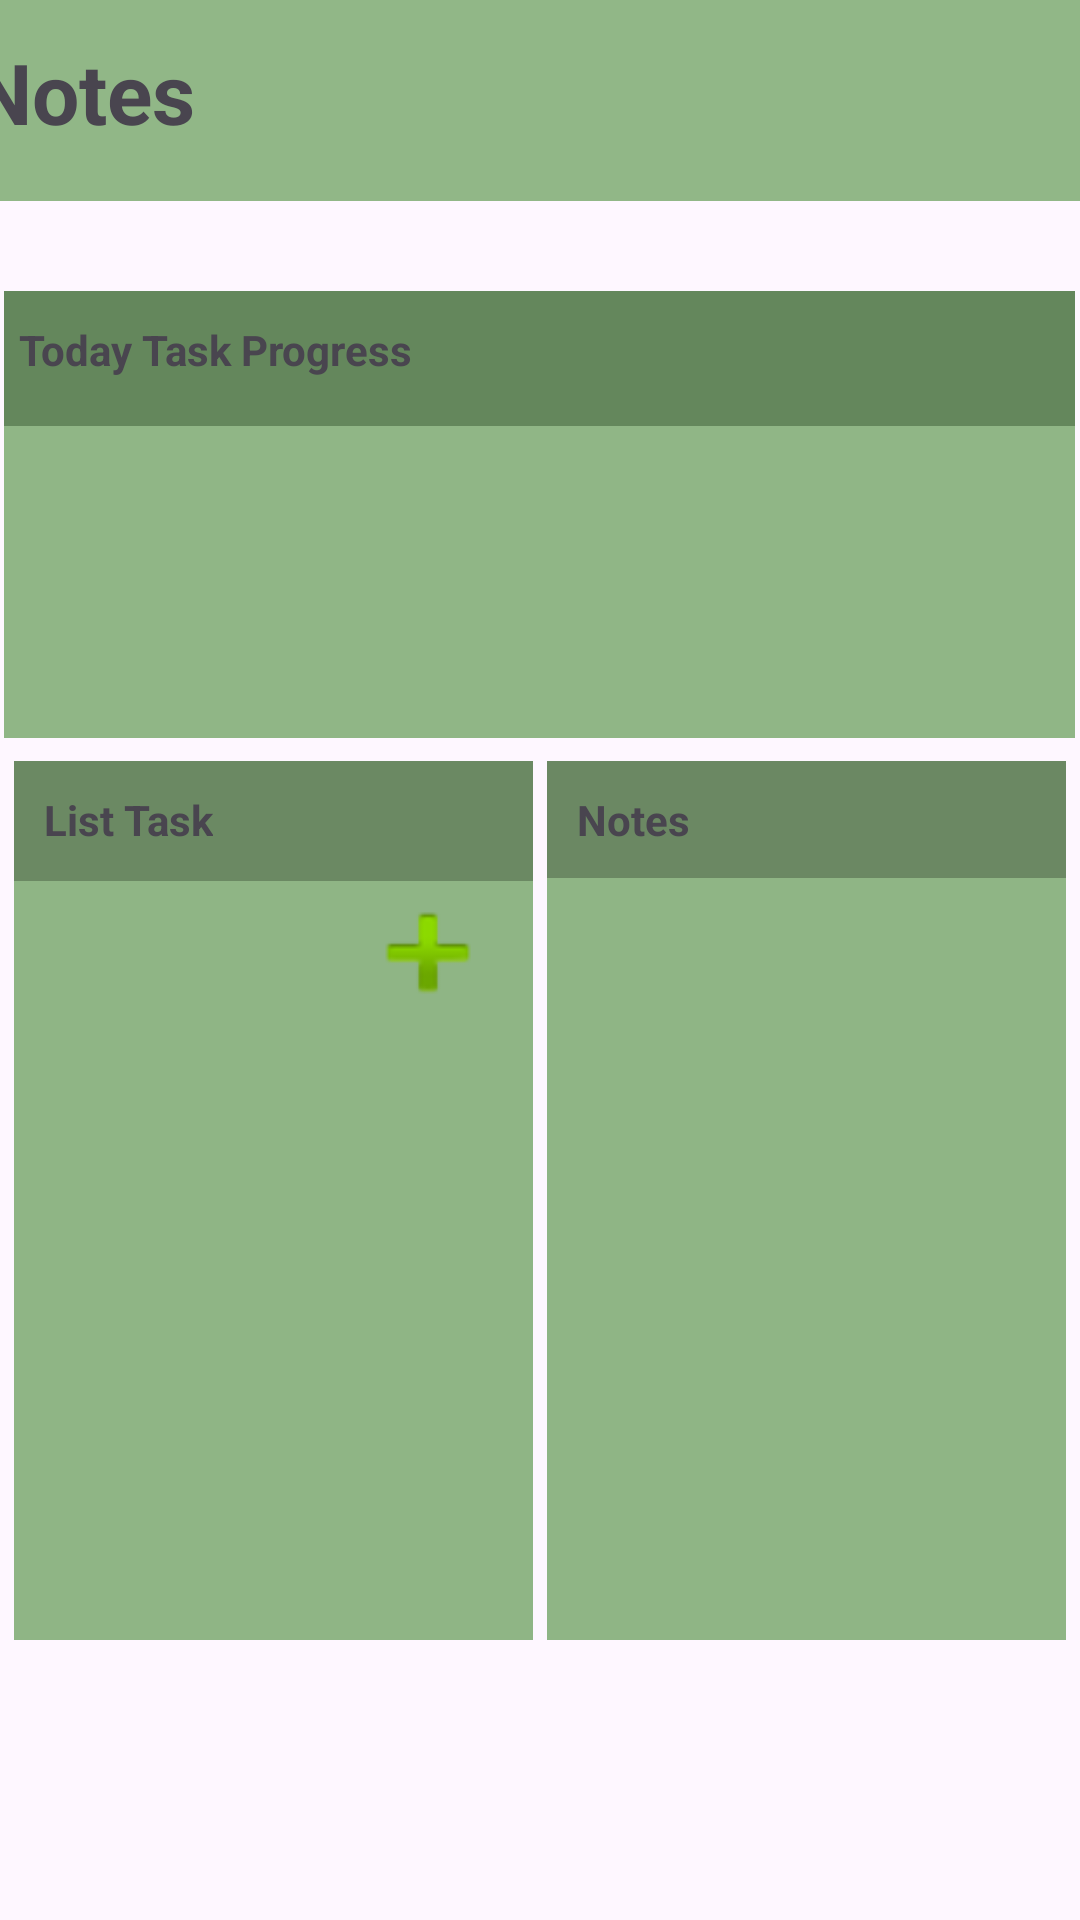

Icons on this 1080 × 1920 Android screen, each with the point to tap as [x,y]:
Add Task: [428,953]
